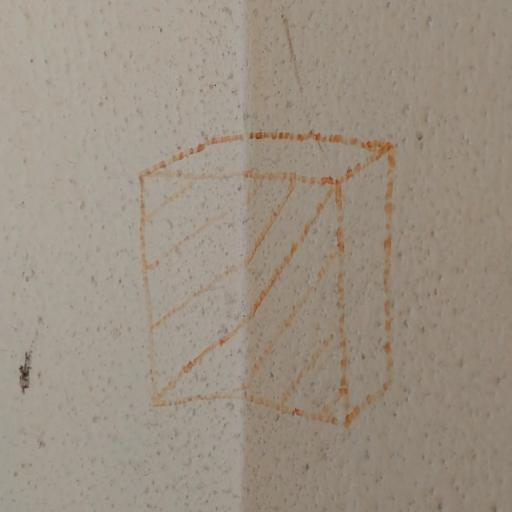stain: (109, 68, 424, 473)
